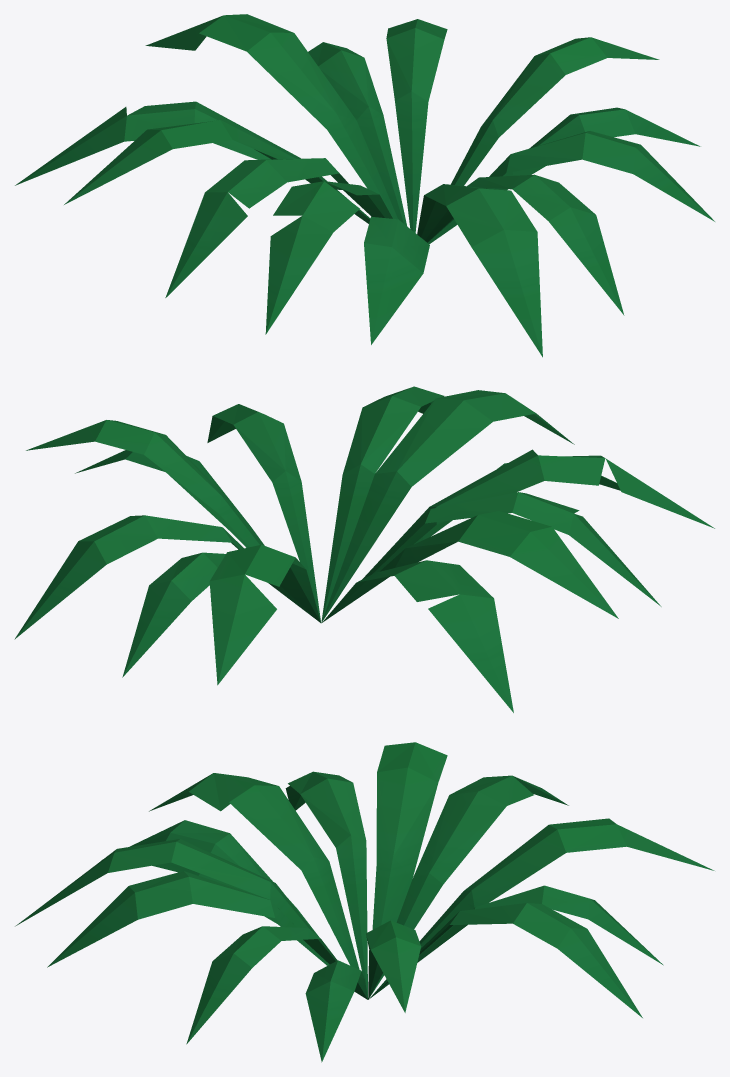
The model's file is plant_low.glb.
The picture shows the model from 3 angles, top to bottom: view 1: azimuth 30°, elevation 25°; view 2: azimuth 150°, elevation 25°; view 3: azimuth 270°, elevation 25°; orthographic projection. The views are drawn at different scales.
Visible parts, largest first — view 1: Plant_10_A; view 2: Plant_10_A; view 3: Plant_10_A.
Part boxes in pixels (x1,y1,x2,y2): Plant_10_A: (15, 14, 714, 357); Plant_10_A: (14, 386, 714, 712); Plant_10_A: (15, 742, 714, 1062).
Size of the model in its own units: 0.8394 by 0.2223 by 0.923.
Materials: 1 (1 with a texture image).
